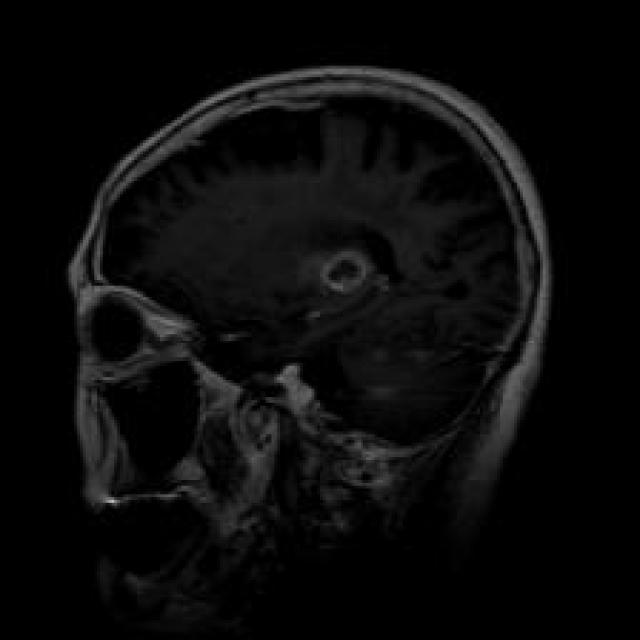glioma_tumor: (266, 203, 428, 329)
